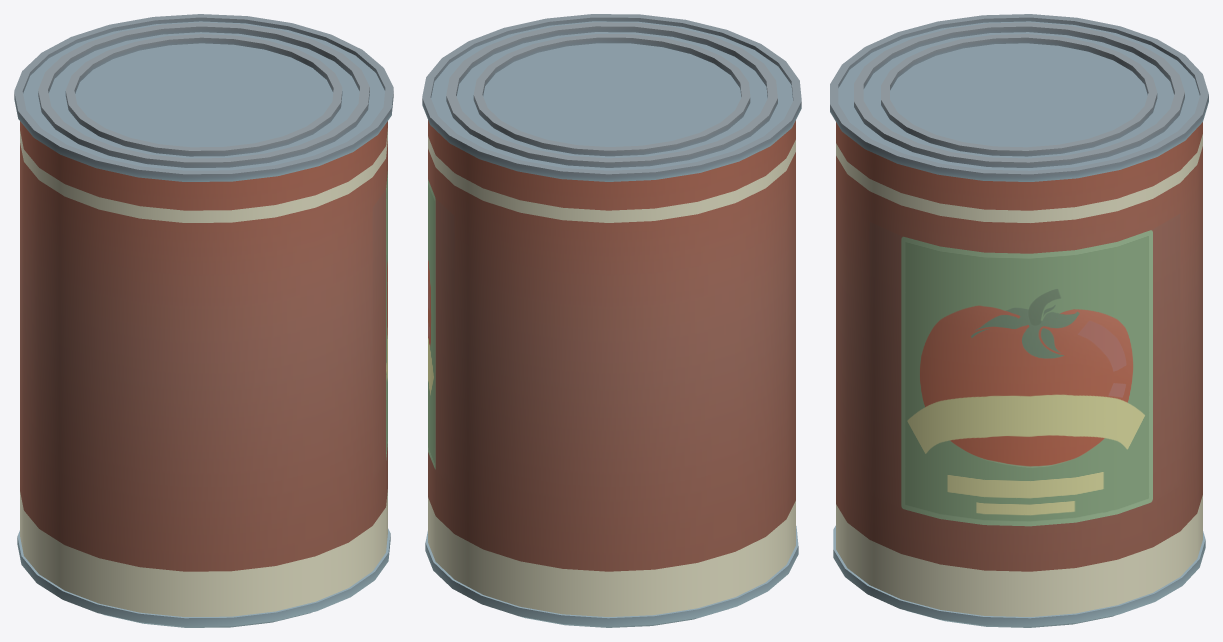
File: soup.fbx
The picture shows the model from 3 angles, left to right: view 1: azimuth 30°, elevation 25°; view 2: azimuth 150°, elevation 25°; view 3: azimuth 270°, elevation 25°; orthographic projection.
Visible parts, largest first — view 1: Cylinder; view 2: Cylinder; view 3: Cylinder.
Part boxes in pixels (x1,y1,x2,y2): Cylinder: [14, 14, 393, 627]; Cylinder: [422, 14, 801, 627]; Cylinder: [830, 14, 1208, 627].
Size of the model in its own units: 2.24 by 3.01 by 2.24.
1 material, 1 textured.
